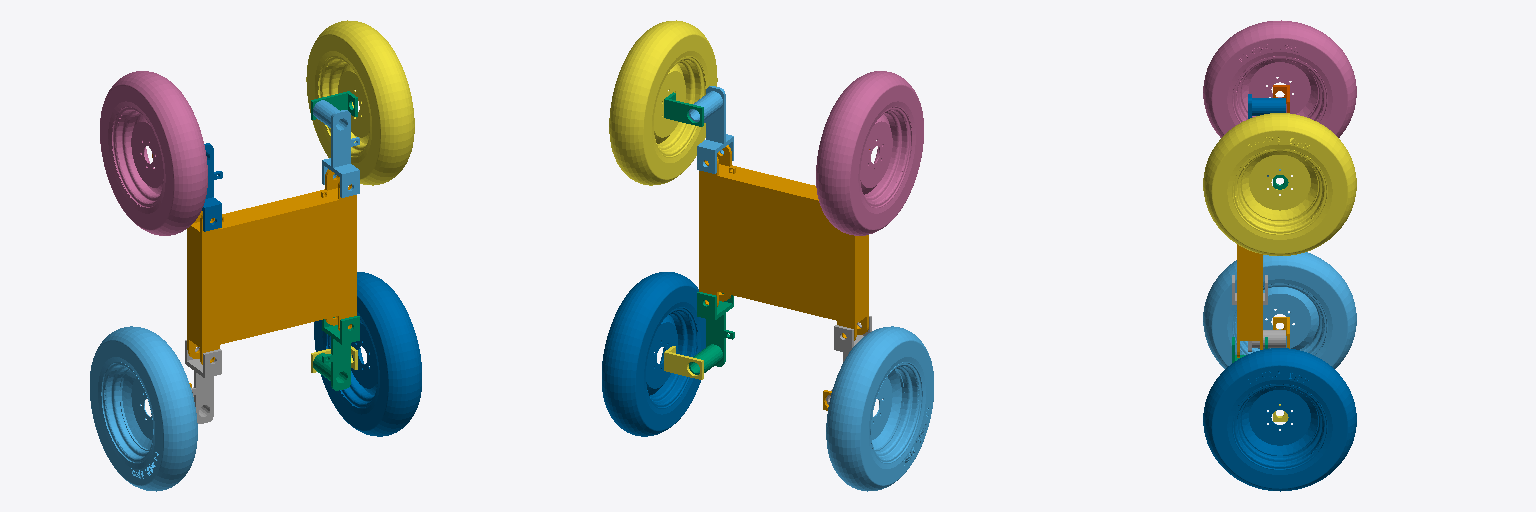
The robot description file, URDF, robot "generated_robot":
<?xml version="1.0"?>
<robot name="generated_robot">
  <link name="base_link">
    <inertial>
      <origin xyz="0.22045123 -0.45542223 -0.5825535" rpy="0 0 0"/>
      <mass value="100"/>
      <inertia ixx="7.390363665" ixy="0" ixz="0" iyy="14.806288587" iyz="0" izz="7.816341746"/>
    </inertial>
    <visual name="part_002_visual_1">
      <origin xyz="0 0 0" rpy="1.57079633 0 0"/>
      <geometry><mesh filename="meshes/part_002_NAUO2.stl"/></geometry>
    </visual>
    <collision name="part_002_collision_1">
      <origin xyz="0 0 0" rpy="1.57079633 0 0"/>
      <geometry><mesh filename="meshes/part_002_NAUO2.stl"/></geometry>
    </collision>
  </link>
  <link name="link_002">
    <inertial>
      <origin xyz="0.0277879 -0.02500001 0.17910192" rpy="0 0 0"/>
      <mass value="26.0427094"/>
      <inertia ixx="0.66546588" ixy="0" ixz="0" iyy="0.5096227" iyz="0" izz="0.27483817"/>
    </inertial>
    <visual name="part_005_visual_1">
      <origin xyz="-0.64345124 0.37792222 0.17255352" rpy="1.57079633 0 0"/>
      <geometry><mesh filename="meshes/part_005_NAUO5.stl"/></geometry>
    </visual>
    <collision name="part_005_collision_1">
      <origin xyz="-0.64345124 0.37792222 0.17255352" rpy="1.57079633 0 0"/>
      <geometry><mesh filename="meshes/part_005_NAUO5.stl"/></geometry>
    </collision>
  </link>
  <link name="link_003">
    <inertial>
      <origin xyz="0.06626165 0.175 0" rpy="0 0 0"/>
      <mass value="5.26841048"/>
      <inertia ixx="0.00970265" ixy="0" ixz="0" iyy="0.02955798" iyz="0" izz="0.028636"/>
    </inertial>
    <visual name="part_006_visual_1">
      <origin xyz="-0.64345124 0.44542222 -0.16144648" rpy="1.57079633 0 0"/>
      <geometry><mesh filename="meshes/part_006_NAUO6.stl"/></geometry>
    </visual>
    <collision name="part_006_collision_1">
      <origin xyz="-0.64345124 0.44542222 -0.16144648" rpy="1.57079633 0 0"/>
      <geometry><mesh filename="meshes/part_006_NAUO6.stl"/></geometry>
    </collision>
  </link>
  <link name="link_004">
    <inertial>
      <origin xyz="-0.03427476 -1e-8 0" rpy="0 0 0"/>
      <mass value="10"/>
      <inertia ixx="1.335152" ixy="0" ixz="0" iyy="0.706052" iyz="0" izz="0.706052"/>
    </inertial>
    <visual name="part_007_visual_1">
      <origin xyz="-0.9009882 0.28042222 -0.16144648" rpy="1.57079633 0 0"/>
      <geometry><mesh filename="meshes/part_007_NAUO7.stl"/></geometry>
    </visual>
    <collision name="part_007_collision_1">
      <origin xyz="-0.9009882 0.28042222 -0.16144648" rpy="1.57079633 0 0"/>
      <geometry><mesh filename="meshes/part_007_NAUO7.stl"/></geometry>
    </collision>
  </link>
  <link name="link_005">
    <inertial>
      <origin xyz="0.02778791 -0.02500001 0.17910192" rpy="0 0 0"/>
      <mass value="26.04270385"/>
      <inertia ixx="0.66546574" ixy="0" ixz="0" iyy="0.50962261" iyz="0" izz="0.27483813"/>
    </inertial>
    <visual name="part_001_visual_1">
      <origin xyz="0.20254876 0.37792222 0.17255352" rpy="1.57079633 0 0"/>
      <geometry><mesh filename="meshes/part_001_NAUO1.stl"/></geometry>
    </visual>
    <collision name="part_001_collision_1">
      <origin xyz="0.20254876 0.37792222 0.17255352" rpy="1.57079633 0 0"/>
      <geometry><mesh filename="meshes/part_001_NAUO1.stl"/></geometry>
    </collision>
  </link>
  <link name="link_006">
    <inertial>
      <origin xyz="-0.06626163 -0.05 0" rpy="0 0 0"/>
      <mass value="5.26841057"/>
      <inertia ixx="0.00970265" ixy="0" ixz="0" iyy="0.02955798" iyz="0" izz="0.02863601"/>
    </inertial>
    <visual name="part_003_visual_1">
      <origin xyz="0.20254876 0.22042222 -0.16144648" rpy="1.57079633 0 0"/>
      <geometry><mesh filename="meshes/part_003_NAUO3.stl"/></geometry>
    </visual>
    <collision name="part_003_collision_1">
      <origin xyz="0.20254876 0.22042222 -0.16144648" rpy="1.57079633 0 0"/>
      <geometry><mesh filename="meshes/part_003_NAUO3.stl"/></geometry>
    </collision>
  </link>
  <link name="link_007">
    <inertial>
      <origin xyz="-0.03898085 2e-8 0" rpy="0 0 0"/>
      <mass value="10"/>
      <inertia ixx="1.334738" ixy="0" ixz="0" iyy="0.705836" iyz="0" izz="0.705836"/>
    </inertial>
    <visual name="part_004_visual_1">
      <origin xyz="0.3663104 0.28042222 -0.16144648" rpy="1.57079633 0 0"/>
      <geometry><mesh filename="meshes/part_004_NAUO4.stl"/></geometry>
    </visual>
    <collision name="part_004_collision_1">
      <origin xyz="0.3663104 0.28042222 -0.16144648" rpy="1.57079633 0 0"/>
      <geometry><mesh filename="meshes/part_004_NAUO4.stl"/></geometry>
    </collision>
  </link>
  <link name="link_008">
    <inertial>
      <origin xyz="-0.02778791 0.12999999 -0.17910193" rpy="0 0 0"/>
      <mass value="26.04271384"/>
      <inertia ixx="0.66546605" ixy="0" ixz="0" iyy="0.50962285" iyz="0" izz="0.27483821"/>
    </inertial>
    <visual name="part_008_visual_1">
      <origin xyz="0.20254876 0.53292222 0.99255352" rpy="1.57079633 0 0"/>
      <geometry><mesh filename="meshes/part_008_NAUO8.stl"/></geometry>
    </visual>
    <collision name="part_008_collision_1">
      <origin xyz="0.20254876 0.53292222 0.99255352" rpy="1.57079633 0 0"/>
      <geometry><mesh filename="meshes/part_008_NAUO8.stl"/></geometry>
    </collision>
  </link>
  <link name="link_009">
    <inertial>
      <origin xyz="-0.06626163 -0.05 6e-8" rpy="0 0 0"/>
      <mass value="5.26841148"/>
      <inertia ixx="0.00970266" ixy="0" ixz="0" iyy="0.02955798" iyz="0" izz="0.02863601"/>
    </inertial>
    <visual name="part_009_visual_1">
      <origin xyz="0.20254876 0.22042222 1.32655352" rpy="1.57079633 0 0"/>
      <geometry><mesh filename="meshes/part_009_NAUO9.stl"/></geometry>
    </visual>
    <collision name="part_009_collision_1">
      <origin xyz="0.20254876 0.22042222 1.32655352" rpy="1.57079633 0 0"/>
      <geometry><mesh filename="meshes/part_009_NAUO9.stl"/></geometry>
    </collision>
  </link>
  <link name="link_010">
    <inertial>
      <origin xyz="-0.10701915 0 0" rpy="0 0 0"/>
      <mass value="10"/>
      <inertia ixx="1.335010" ixy="0" ixz="0" iyy="0.705972" iyz="0" izz="0.705972"/>
    </inertial>
    <visual name="part_012_visual_1">
      <origin xyz="0.3663104 0.28042222 1.32655352" rpy="1.57079633 0 0"/>
      <geometry><mesh filename="meshes/part_012_NAUO12.stl"/></geometry>
    </visual>
    <collision name="part_012_collision_1">
      <origin xyz="0.3663104 0.28042222 1.32655352" rpy="1.57079633 0 0"/>
      <geometry><mesh filename="meshes/part_012_NAUO12.stl"/></geometry>
    </collision>
  </link>
  <link name="link_011">
    <inertial>
      <origin xyz="-0.02778791 -0.05250001 -0.17910193" rpy="0 0 0"/>
      <mass value="26.04271968"/>
      <inertia ixx="0.6654662" ixy="0" ixz="0" iyy="0.50962296" iyz="0" izz="0.27483828"/>
    </inertial>
    <visual name="part_011_visual_1">
      <origin xyz="-0.64345124 0.35042222 0.99255352" rpy="1.57079633 0 0"/>
      <geometry><mesh filename="meshes/part_011_NAUO11.stl"/></geometry>
    </visual>
    <collision name="part_011_collision_1">
      <origin xyz="-0.64345124 0.35042222 0.99255352" rpy="1.57079633 0 0"/>
      <geometry><mesh filename="meshes/part_011_NAUO11.stl"/></geometry>
    </collision>
  </link>
  <link name="link_012">
    <inertial>
      <origin xyz="0.06626165 0.175 6e-8" rpy="0 0 0"/>
      <mass value="5.26841139"/>
      <inertia ixx="0.00970266" ixy="0" ixz="0" iyy="0.02955798" iyz="0" izz="0.02863601"/>
    </inertial>
    <visual name="part_010_visual_1">
      <origin xyz="-0.64345124 0.44542222 1.32655352" rpy="1.57079633 0 0"/>
      <geometry><mesh filename="meshes/part_010_NAUO10.stl"/></geometry>
    </visual>
    <collision name="part_010_collision_1">
      <origin xyz="-0.64345124 0.44542222 1.32655352" rpy="1.57079633 0 0"/>
      <geometry><mesh filename="meshes/part_010_NAUO10.stl"/></geometry>
    </collision>
  </link>
  <link name="link_013">
    <inertial>
      <origin xyz="0.10701918 0 0" rpy="0 0 0"/>
      <mass value="10"/>
      <inertia ixx="1.335120" ixy="0" ixz="0" iyy="0.706027" iyz="0" izz="0.706027"/>
    </inertial>
    <visual name="part_013_visual_1">
      <origin xyz="-0.80721288 0.28042222 1.32655352" rpy="1.57079633 0 0"/>
      <geometry><mesh filename="meshes/part_013_NAUO13.stl"/></geometry>
    </visual>
    <collision name="part_013_collision_1">
      <origin xyz="-0.80721288 0.28042222 1.32655352" rpy="1.57079633 0 0"/>
      <geometry><mesh filename="meshes/part_013_NAUO13.stl"/></geometry>
    </collision>
  </link>
  <joint name="link_002_joint" type="revolute">
    <parent link="base_link"/>
    <child link="link_002"/>
    <origin xyz="0.64345124 -0.37792222 -0.17255352" rpy="0 0 0"/>
    <axis xyz="0 1 0"/>
    <limit lower="-1.57" upper="1.57" effort="10" velocity="5"/>
  </joint>
  <joint name="link_003_joint" type="revolute">
    <parent link="link_002"/>
    <child link="link_003"/>
    <origin xyz="0 -0.0675 0.334" rpy="0 0 0"/>
    <axis xyz="0 1 0"/>
    <limit lower="-1.57" upper="1.57" effort="10" velocity="5"/>
  </joint>
  <joint name="link_004_joint" type="revolute">
    <parent link="link_003"/>
    <child link="link_004"/>
    <origin xyz="0.25753697 0.165 0" rpy="0 0 0"/>
    <axis xyz="-1 0 0"/>
    <limit lower="-1.57" upper="1.57" effort="10" velocity="5"/>
  </joint>
  <joint name="link_005_joint" type="revolute">
    <parent link="base_link"/>
    <child link="link_005"/>
    <origin xyz="-0.20254876 -0.37792222 -0.17255352" rpy="0 0 0"/>
    <axis xyz="0 -1 0"/>
    <limit lower="-1.57" upper="1.57" effort="10" velocity="5"/>
  </joint>
  <joint name="link_006_joint" type="revolute">
    <parent link="link_005"/>
    <child link="link_006"/>
    <origin xyz="0 0.1575 0.334" rpy="0 0 0"/>
    <axis xyz="0 -1 0"/>
    <limit lower="-1.57" upper="1.57" effort="10" velocity="5"/>
  </joint>
  <joint name="link_007_joint" type="revolute">
    <parent link="link_006"/>
    <child link="link_007"/>
    <origin xyz="-0.16376164 -0.06 0" rpy="0 0 0"/>
    <axis xyz="-1 0 0"/>
    <limit lower="-1.57" upper="1.57" effort="10" velocity="5"/>
  </joint>
  <joint name="link_008_joint" type="revolute">
    <parent link="base_link"/>
    <child link="link_008"/>
    <origin xyz="-0.20254876 -0.53292222 -0.99255352" rpy="0 0 0"/>
    <axis xyz="0 1 0"/>
    <limit lower="-1.57" upper="1.57" effort="10" velocity="5"/>
  </joint>
  <joint name="link_009_joint" type="revolute">
    <parent link="link_008"/>
    <child link="link_009"/>
    <origin xyz="0 0.3125 -0.334" rpy="0 0 0"/>
    <axis xyz="0 -1 0"/>
    <limit lower="-1.57" upper="1.57" effort="10" velocity="5"/>
  </joint>
  <joint name="link_010_joint" type="revolute">
    <parent link="link_009"/>
    <child link="link_010"/>
    <origin xyz="-0.16376164 -0.06 0" rpy="0 0 0"/>
    <axis xyz="-1 0 0"/>
    <limit lower="-1.57" upper="1.57" effort="10" velocity="5"/>
  </joint>
  <joint name="link_011_joint" type="revolute">
    <parent link="base_link"/>
    <child link="link_011"/>
    <origin xyz="0.64345124 -0.35042222 -0.99255352" rpy="0 0 0"/>
    <axis xyz="0 -1 0"/>
    <limit lower="-1.57" upper="1.57" effort="10" velocity="5"/>
  </joint>
  <joint name="link_012_joint" type="revolute">
    <parent link="link_011"/>
    <child link="link_012"/>
    <origin xyz="0 -0.095 -0.334" rpy="0 0 0"/>
    <axis xyz="0 1 0"/>
    <limit lower="-1.57" upper="1.57" effort="10" velocity="5"/>
  </joint>
  <joint name="link_013_joint" type="revolute">
    <parent link="link_012"/>
    <child link="link_013"/>
    <origin xyz="0.16376164 0.165 0" rpy="0 0 0"/>
    <axis xyz="1 0 0"/>
    <limit lower="-1.57" upper="1.57" effort="10" velocity="5"/>
  </joint>
</robot>

--- Facts derived from the render (not from the file) ---
Views: 3 orthographic renders of the robot side by side, from view 1: azimuth 30°, elevation 25°; view 2: azimuth 150°, elevation 25°; view 3: azimuth 270°, elevation 25°.
Robot: generated_robot — 13 links, 12 joints (12 revolute); root link base_link; default pose: all joints at 0.
Links seen in each view (by area): view 1: base_link, link_007, link_010, link_004, link_013, link_002, link_011, link_008, link_005, link_003; view 2: base_link, link_007, link_010, link_013, link_004, link_002, link_011, link_003, link_012, link_008; view 3: link_004, link_013, link_007, link_010, base_link, link_008, link_005.
Link boxes in pixels (bbox=[...]): base_link: bbox=[187, 169, 356, 364]; link_007: bbox=[100, 71, 207, 235]; link_010: bbox=[90, 326, 197, 491]; link_004: bbox=[306, 20, 414, 185]; link_013: bbox=[314, 272, 421, 436]; link_002: bbox=[313, 100, 359, 197]; link_011: bbox=[313, 316, 359, 390]; link_008: bbox=[185, 340, 221, 423]; link_005: bbox=[202, 143, 222, 231]; link_003: bbox=[311, 91, 357, 119]; base_link: bbox=[699, 145, 868, 340]; link_007: bbox=[816, 71, 923, 235]; link_010: bbox=[826, 326, 933, 491]; link_013: bbox=[602, 272, 705, 436]; link_004: bbox=[609, 20, 717, 185]; link_002: bbox=[689, 86, 733, 173]; link_011: bbox=[689, 292, 734, 374]; link_003: bbox=[664, 92, 703, 126]; link_012: bbox=[664, 346, 703, 379]; link_008: bbox=[826, 316, 871, 404]; link_004: bbox=[1203, 113, 1356, 255]; link_013: bbox=[1203, 348, 1356, 491]; link_007: bbox=[1203, 20, 1356, 137]; link_010: bbox=[1203, 252, 1356, 368]; base_link: bbox=[1237, 244, 1262, 357]; link_008: bbox=[1232, 275, 1285, 351]; link_005: bbox=[1248, 94, 1285, 118].
Bounding box of the posed robot: 1.6 × 0.895 × 2.38 m (x, y, z).
Meshes: 13 distinct files referenced, 13 mesh visuals loaded (13 binary STL).
